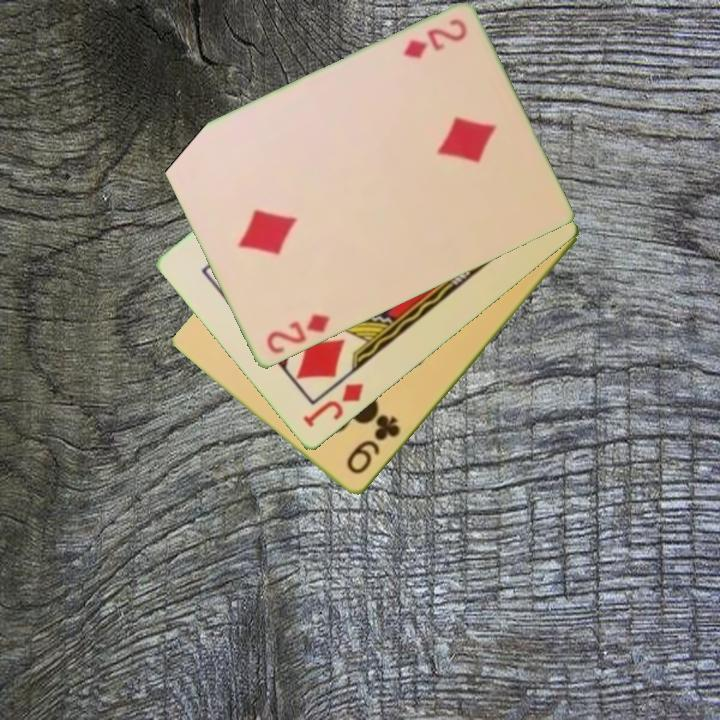2d: (399, 15, 470, 63), (262, 311, 333, 358)
9c: (342, 412, 404, 478)
Jd: (299, 380, 367, 431)
